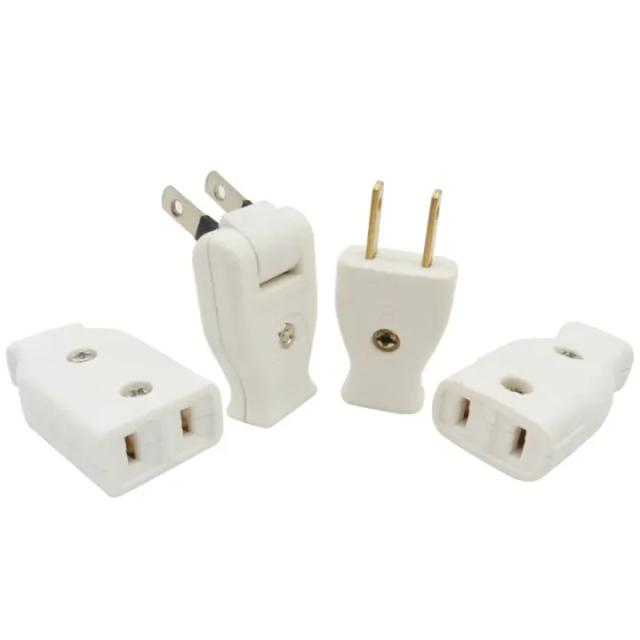type_a: (410, 380, 568, 511), (79, 370, 221, 491)
